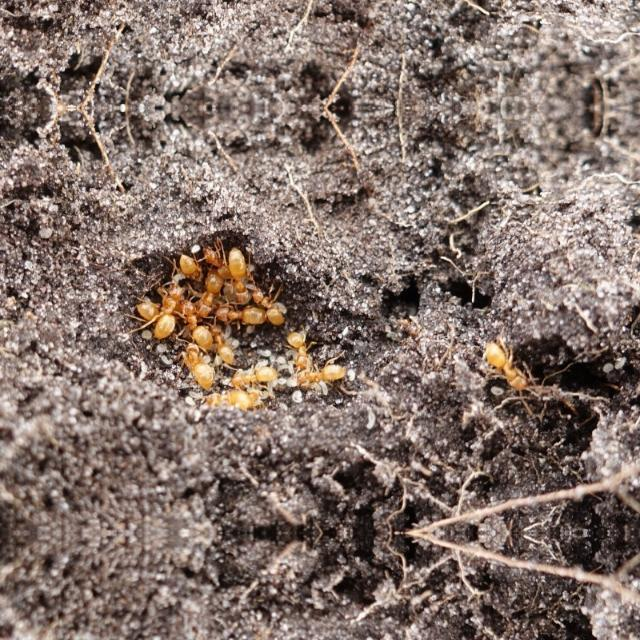Lasius: (190, 245, 230, 322), (487, 339, 537, 398), (242, 274, 292, 328), (148, 278, 184, 340), (179, 301, 215, 355), (299, 360, 357, 392), (223, 237, 250, 299), (180, 340, 212, 392), (212, 296, 260, 328), (172, 238, 208, 280), (285, 328, 321, 368), (230, 358, 278, 387), (219, 389, 273, 413)
